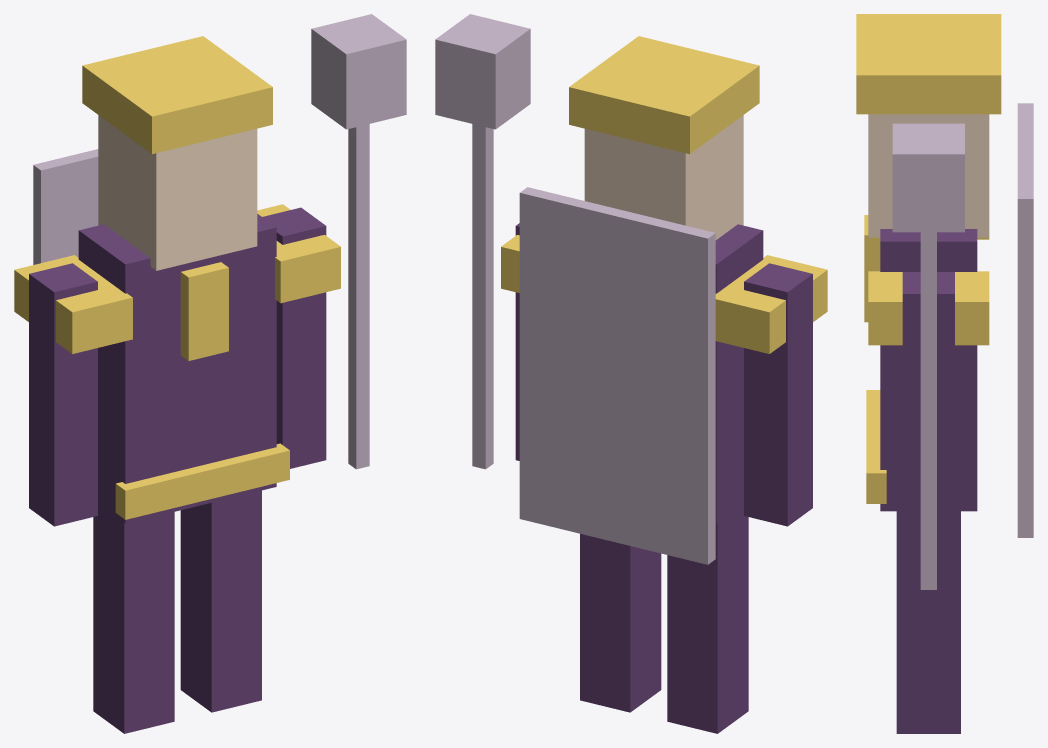
File: 20_calder_dubwater_pilgrim_from_freight.glb
The picture shows the model from 3 angles, left to right: view 1: azimuth 30°, elevation 25°; view 2: azimuth 150°, elevation 25°; view 3: azimuth 270°, elevation 25°; orthographic projection. The views are drawn at different scales.
Visible parts, largest first — view 1: Calder Dubwater, Pilgrim from Freight; view 2: Calder Dubwater, Pilgrim from Freight; view 3: Calder Dubwater, Pilgrim from Freight.
Boxes of the visible parts, left/top/right/bottom form: Calder Dubwater, Pilgrim from Freight: left=14, top=14, right=406, bottom=733; Calder Dubwater, Pilgrim from Freight: left=435, top=14, right=827, bottom=733; Calder Dubwater, Pilgrim from Freight: left=856, top=14, right=1033, bottom=733.
Size of the model in its own units: 0.9904 by 1.71 by 0.421.
